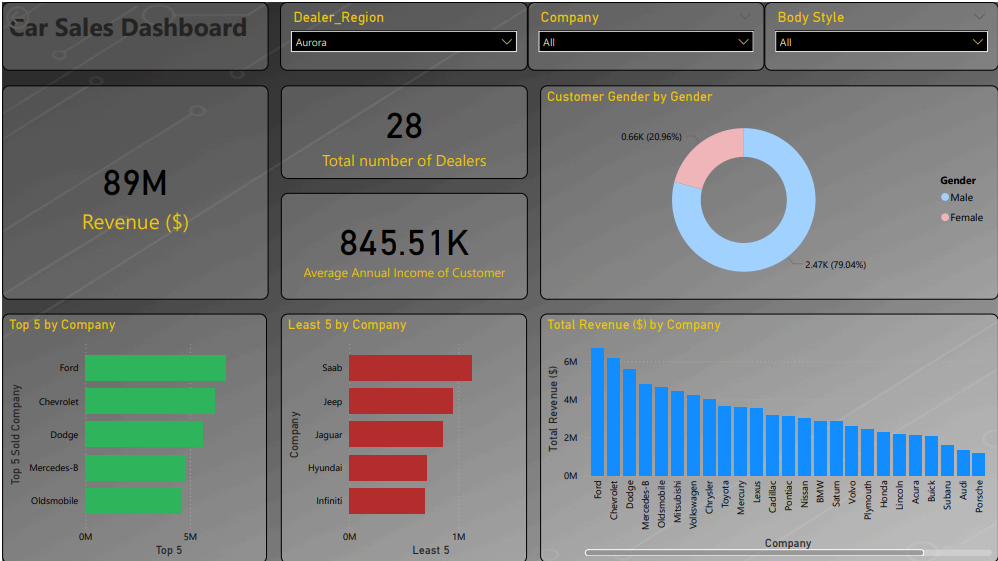

Layout of this report page (visuals, bound fields, positions):
{"tool":"powerbi","page":{"name":"Page 1","canvas":[1280,720],"ordinal":0},"visuals":[{"type":"slicer","fields":{"Values":["car_data.Dealer_Region"]},"box":[357.2,0,317.5,87.9],"z":0},{"type":"textbox","box":[0,0,341.6,87.9],"z":1000},{"type":"card","fields":{"Values":["Sum(car_data.Price ($))"]},"box":[0,107.3,341.8,274.6],"z":2000},{"type":"slicer","fields":{"Values":["car_data.Company"]},"box":[674.6,0,304.7,87.9],"z":3000},{"type":"slicer","fields":{"Values":["car_data.Body Style"]},"box":[979.4,0,300.5,87.9],"z":4000},{"type":"card","fields":{"Values":["Count(car_data.Dealer_Name)"]},"box":[357.5,107.3,317.5,120.1],"z":5000},{"type":"donutChart","fields":{"Category":["car_data.Gender"],"Y":["CountNonNull(car_data.Customer Name)"]},"box":[690.8,107.3,589.2,274.6],"z":6000},{"type":"card","fields":{"Values":["Avg(car_data.Annual Income)"]},"box":[357.5,244.6,317.5,137.3],"z":7000},{"type":"actionButton","box":[0,0,100,40],"z":8000},{"type":"barChart","fields":{"Category":["car_data.Company"],"Y":["Sum(car_data.Price ($))"]},"box":[0,400.4,340.4,320.4],"z":9000},{"type":"barChart","fields":{"Category":["car_data.Company"],"Y":["Sum(car_data.Price ($))"]},"box":[357.5,400.4,316.1,320.4],"z":10000},{"type":"columnChart","fields":{"Category":["car_data.Company"],"Y":["Sum(car_data.Price ($))"]},"box":[691,400,589,320],"z":10001}]}

Visuals, with their boxes in screenshot pixels (x1, y1, x2, y2), scaled from the page's 1280x720 canvas onto the 998x561 screenshot:
slicer - car_data.Dealer_Region: bbox(279, 0, 526, 68)
textbox: bbox(0, 0, 266, 68)
card - Sum(car_data.Price ($)): bbox(0, 84, 266, 298)
slicer - car_data.Company: bbox(526, 0, 764, 68)
slicer - car_data.Body Style: bbox(764, 0, 997, 68)
card - Count(car_data.Dealer_Name): bbox(279, 84, 526, 177)
donutChart - car_data.Gender x CountNonNull(car_data.Customer Name): bbox(539, 84, 997, 298)
card - Avg(car_data.Annual Income): bbox(279, 191, 526, 298)
actionButton: bbox(0, 0, 78, 31)
barChart - car_data.Company x Sum(car_data.Price ($)): bbox(0, 312, 265, 560)
barChart - car_data.Company x Sum(car_data.Price ($)): bbox(279, 312, 525, 560)
columnChart - car_data.Company x Sum(car_data.Price ($)): bbox(539, 312, 997, 560)
